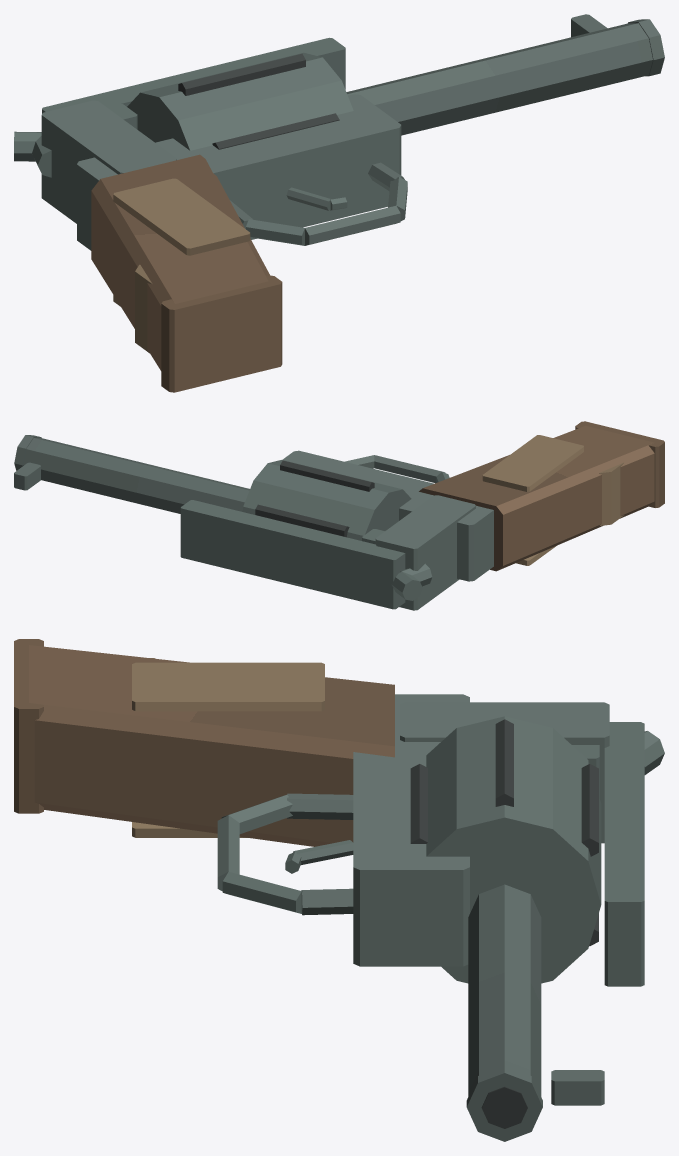
File: weapon-adams-1851.glb
The picture shows the model from 3 angles, top to bottom: view 1: azimuth 30°, elevation 25°; view 2: azimuth 150°, elevation 25°; view 3: azimuth 270°, elevation 25°; orthographic projection. The views are drawn at different scales.
Parts seen in each view (by area): view 1: weapon-adams-1851/lower-frame, weapon-adams-1851/barrel, weapon-adams-1851/eight-sided-wood-grip, weapon-adams-1851/fluted-cylinder, weapon-adams-1851/eight-sided-wood-grip-heel, weapon-adams-1851/frame-rear, weapon-adams-1851/grip-plaque-left, weapon-adams-1851/continuous-top-strap, weapon-adams-1851/cylinder-long-flute-3, weapon-adams-1851/hollow-trigger-guard-4, weapon-adams-1851/cylinder-long-flute-4, weapon-adams-1851/hollow-trigger-guard-5 (+5 smaller); view 2: weapon-adams-1851/eight-sided-wood-grip, weapon-adams-1851/continuous-top-strap, weapon-adams-1851/barrel, weapon-adams-1851/fluted-cylinder, weapon-adams-1851/frame-rear, weapon-adams-1851/lower-frame, weapon-adams-1851/grip-plaque-left, weapon-adams-1851/eight-sided-wood-grip-heel, weapon-adams-1851/cylinder-long-flute-2, weapon-adams-1851/heavy-rear-grip-curve, weapon-adams-1851/cylinder-long-flute-3, weapon-adams-1851/hollow-trigger-guard-4 (+4 smaller); view 3: weapon-adams-1851/eight-sided-wood-grip, weapon-adams-1851/fluted-cylinder, weapon-adams-1851/lower-frame, weapon-adams-1851/barrel, weapon-adams-1851/continuous-top-strap, weapon-adams-1851/grip-plaque-left, weapon-adams-1851/frame-rear, weapon-adams-1851/eight-sided-wood-grip-heel, weapon-adams-1851/barrel-end-rim, weapon-adams-1851/front-sight, weapon-adams-1851/hollow-trigger-guard-3, weapon-adams-1851/hollow-trigger-guard-6 (+9 smaller).
Part boxes in pixels (left/top/right/bottom): weapon-adams-1851/lower-frame: left=77, top=94, right=401, bottom=250; weapon-adams-1851/barrel: left=346, top=23, right=652, bottom=135; weapon-adams-1851/eight-sided-wood-grip: left=91, top=154, right=270, bottom=370; weapon-adams-1851/fluted-cylinder: left=127, top=52, right=353, bottom=150; weapon-adams-1851/eight-sided-wood-grip-heel: left=161, top=275, right=282, bottom=392; weapon-adams-1851/frame-rear: left=41, top=100, right=176, bottom=223; weapon-adams-1851/grip-plaque-left: left=113, top=178, right=250, bottom=255; weapon-adams-1851/continuous-top-strap: left=42, top=37, right=345, bottom=113; weapon-adams-1851/cylinder-long-flute-3: left=178, top=53, right=305, bottom=95; weapon-adams-1851/hollow-trigger-guard-4: left=305, top=205, right=400, bottom=245; weapon-adams-1851/cylinder-long-flute-4: left=212, top=113, right=339, bottom=149; weapon-adams-1851/hollow-trigger-guard-5: left=246, top=219, right=304, bottom=245; weapon-adams-1851/eight-sided-wood-grip: left=419, top=425, right=654, bottom=571; weapon-adams-1851/continuous-top-strap: left=180, top=500, right=405, bottom=609; weapon-adams-1851/barrel: left=23, top=438, right=249, bottom=513; weapon-adams-1851/fluted-cylinder: left=242, top=460, right=411, bottom=540; weapon-adams-1851/frame-rear: left=375, top=495, right=475, bottom=610; weapon-adams-1851/lower-frame: left=282, top=450, right=493, bottom=581; weapon-adams-1851/grip-plaque-left: left=482, top=435, right=583, bottom=491; weapon-adams-1851/eight-sided-wood-grip-heel: left=575, top=421, right=664, bottom=507; weapon-adams-1851/cylinder-long-flute-2: left=255, top=504, right=349, bottom=537; weapon-adams-1851/heavy-rear-grip-curve: left=599, top=462, right=623, bottom=525; weapon-adams-1851/cylinder-long-flute-3: left=280, top=460, right=374, bottom=491; weapon-adams-1851/hollow-trigger-guard-4: left=374, top=455, right=445, bottom=483; weapon-adams-1851/eight-sided-wood-grip: left=29, top=645, right=394, bottom=846; weapon-adams-1851/fluted-cylinder: left=426, top=716, right=601, bottom=983; weapon-adams-1851/lower-frame: left=353, top=694, right=469, bottom=966; weapon-adams-1851/barrel: left=468, top=884, right=541, bottom=1096; weapon-adams-1851/continuous-top-strap: left=604, top=722, right=644, bottom=986; weapon-adams-1851/grip-plaque-left: left=132, top=662, right=324, bottom=711; weapon-adams-1851/frame-rear: left=400, top=702, right=609, bottom=843; weapon-adams-1851/eight-sided-wood-grip-heel: left=14, top=639, right=43, bottom=813; weapon-adams-1851/barrel-end-rim: left=466, top=1066, right=542, bottom=1141; weapon-adams-1851/front-sight: left=551, top=1070, right=604, bottom=1105; weapon-adams-1851/hollow-trigger-guard-3: left=222, top=872, right=302, bottom=913; weapon-adams-1851/hollow-trigger-guard-6: left=287, top=793, right=353, bottom=819.
Bounding box in the file's own units: 0.2964 × 0.0654 × 0.1956.
Materials: 4 (4 with a texture image).
